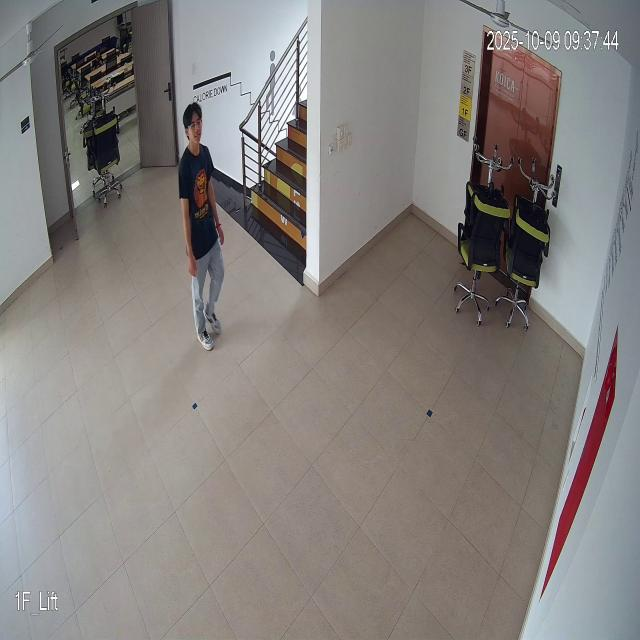face: (183, 102, 213, 151)
